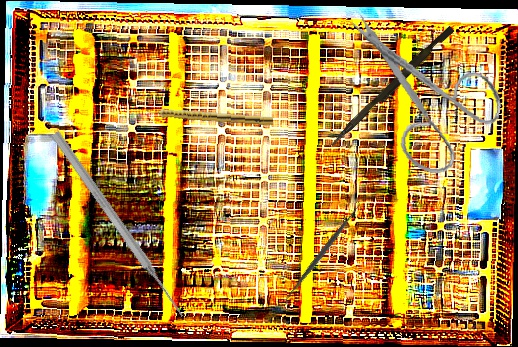Handpiece: (145, 105, 274, 126)
Iris Scissors: (328, 11, 512, 183)
Pusher: (48, 129, 189, 321), (329, 22, 455, 152)
Spatula Surgical: (277, 197, 368, 309)
